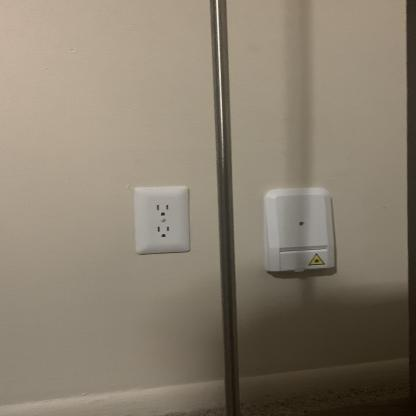OUTLET: (134, 186, 190, 254)
